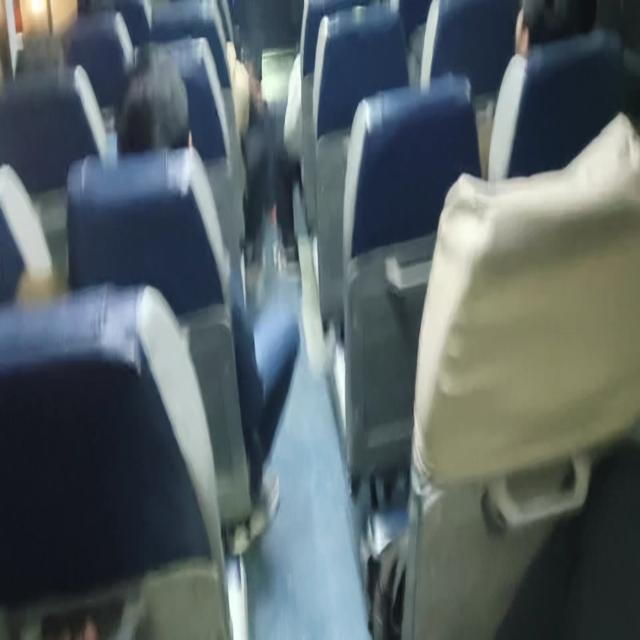person: (113, 74, 199, 165), (492, 0, 587, 66), (12, 25, 76, 77)
